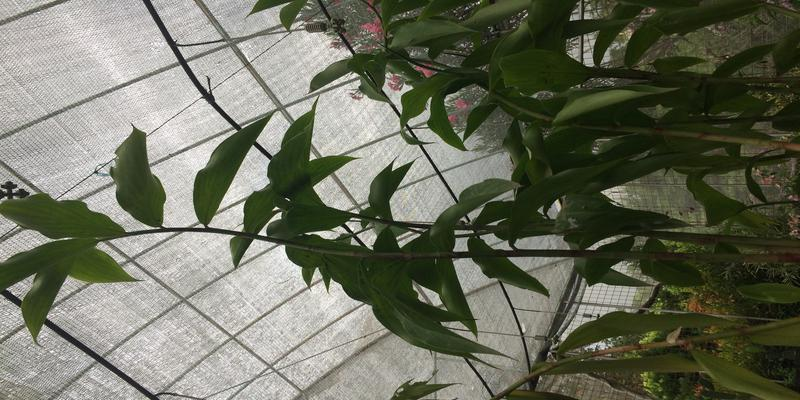Insulin: (27, 141, 740, 368)
